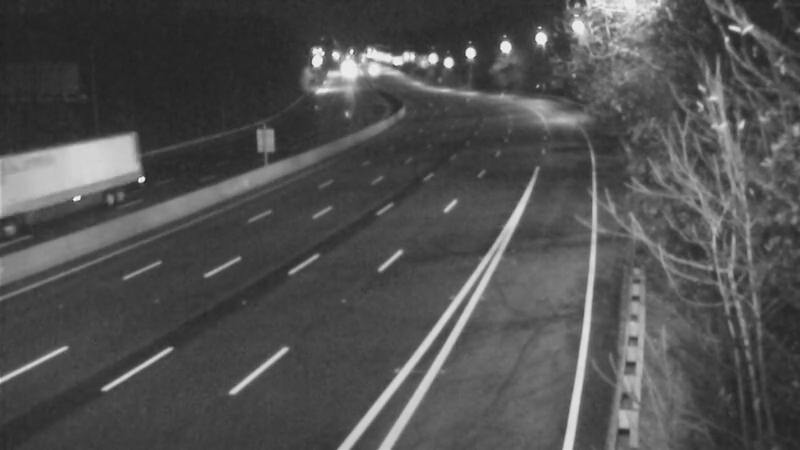vehicle: (4, 153, 84, 233)
